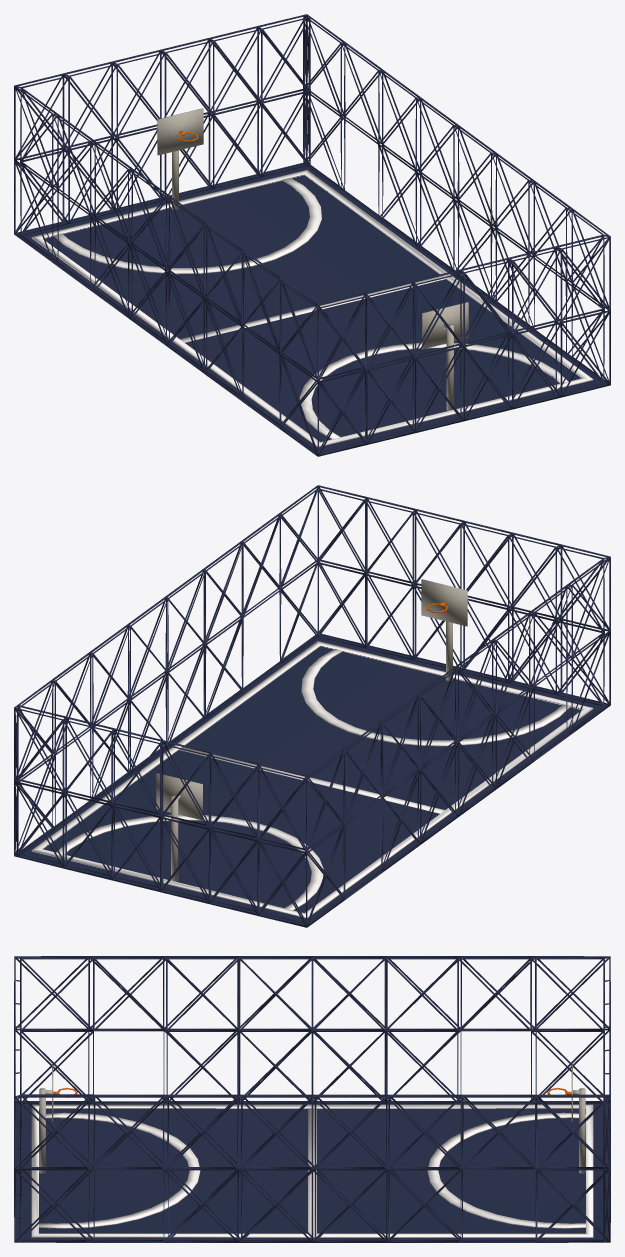
File: infrastructure-building-basketball-court.fbx
The picture shows the model from 3 angles, top to bottom: view 1: azimuth 30°, elevation 25°; view 2: azimuth 150°, elevation 25°; view 3: azimuth 270°, elevation 25°; orthographic projection.
Visible parts, largest first — view 1: infrastructure-building-basketball-court; view 2: infrastructure-building-basketball-court; view 3: infrastructure-building-basketball-court.
Boxes of the visible parts, bbox=[...] form: infrastructure-building-basketball-court: bbox=[14, 14, 610, 456]; infrastructure-building-basketball-court: bbox=[14, 485, 610, 927]; infrastructure-building-basketball-court: bbox=[14, 956, 610, 1242].
Size of the model in its own units: 1329 by 647 by 2385.
1 material, 1 textured.
